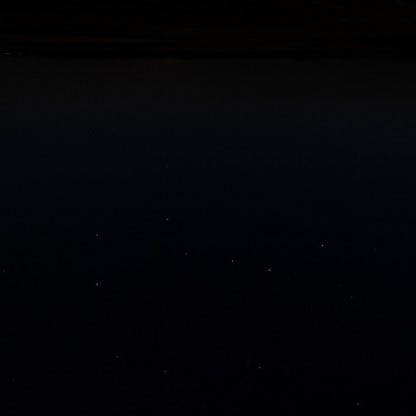Ursa Major: (309, 228, 331, 261), (222, 245, 241, 275), (176, 243, 199, 266), (86, 273, 103, 298), (262, 258, 276, 283), (157, 210, 174, 229), (90, 223, 104, 244)
